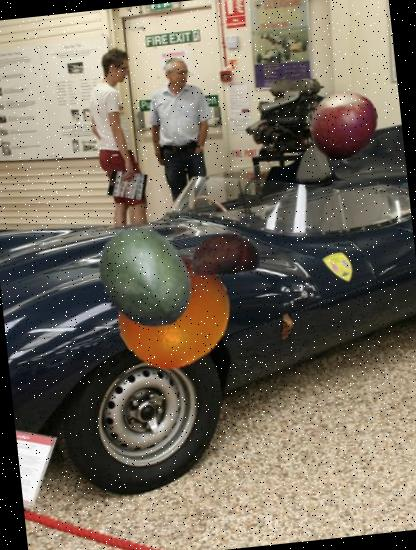Chestnut: (186, 214, 265, 293)
Grapefruit: (110, 250, 238, 376)
Mango: (84, 219, 202, 338)
Nectarine: (306, 88, 382, 164)
